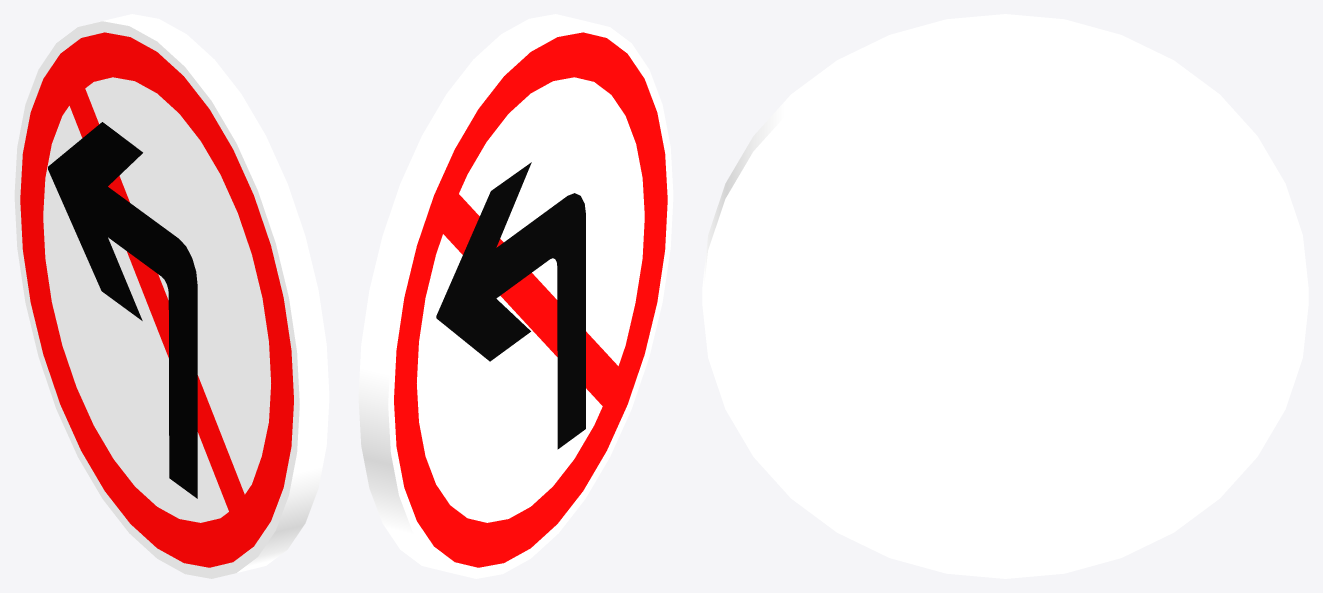
File: No_Left_Turn.glb
3 renders of one model, left to right at view 1: azimuth 30°, elevation 25°; view 2: azimuth 150°, elevation 25°; view 3: azimuth 270°, elevation 25°, orthographic. The views are drawn at different scales.
Parts seen in each view (by area): view 1: No_Left_Turn; view 2: No_Left_Turn; view 3: No_Left_Turn.
Part boxes in pixels (box(x1,y1,x2,y2)): No_Left_Turn: box(14, 14, 329, 578); No_Left_Turn: box(358, 14, 673, 578); No_Left_Turn: box(702, 14, 1308, 578).
Size of the model in its own units: 0.075 by 1 by 1.
